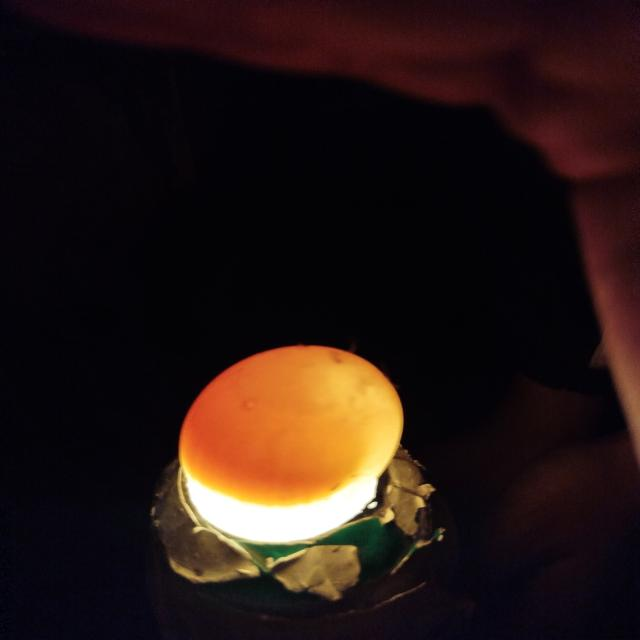Gema Quebrada: (191, 382, 338, 488)
